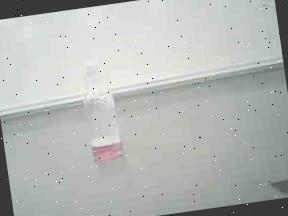hazard: (64, 47, 128, 166)
